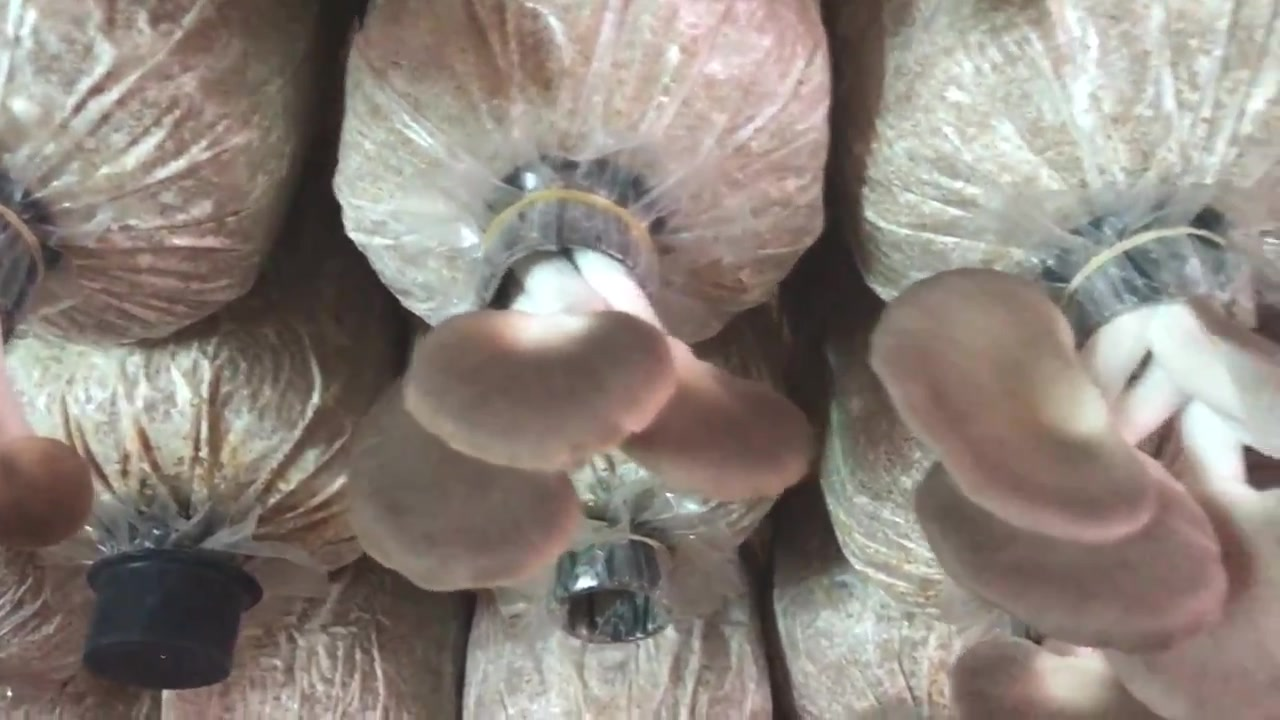nam: (350, 191, 811, 591), (870, 235, 1280, 649), (1, 187, 92, 552), (949, 634, 1162, 720)
